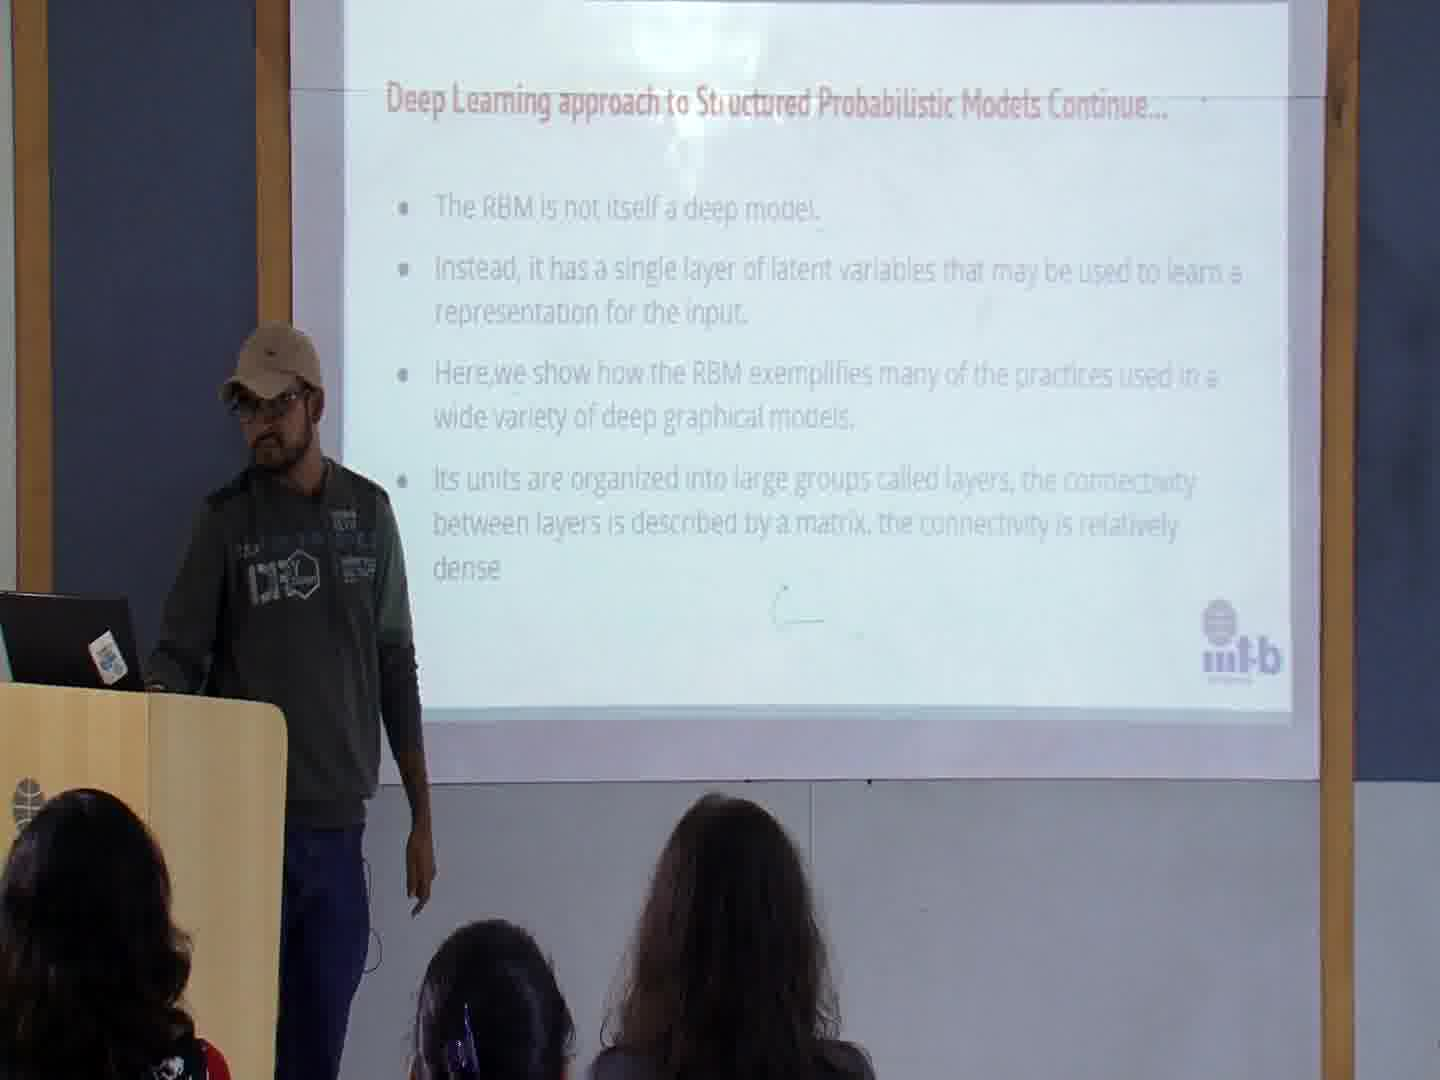slide: (344, 1, 1291, 727)
